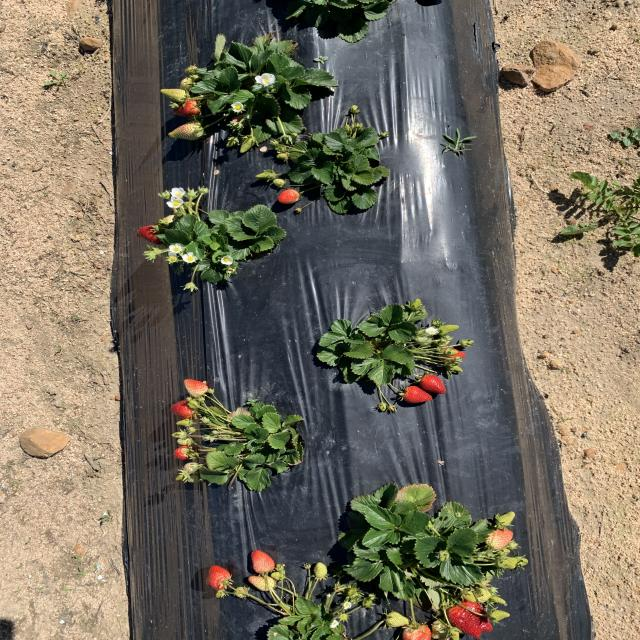unripe: (448, 601, 492, 640), (168, 400, 204, 420), (204, 565, 231, 589), (136, 224, 166, 244), (403, 385, 433, 404), (420, 375, 446, 395), (250, 550, 274, 570), (171, 101, 200, 115), (278, 189, 301, 204), (173, 445, 195, 460), (440, 348, 467, 360)
